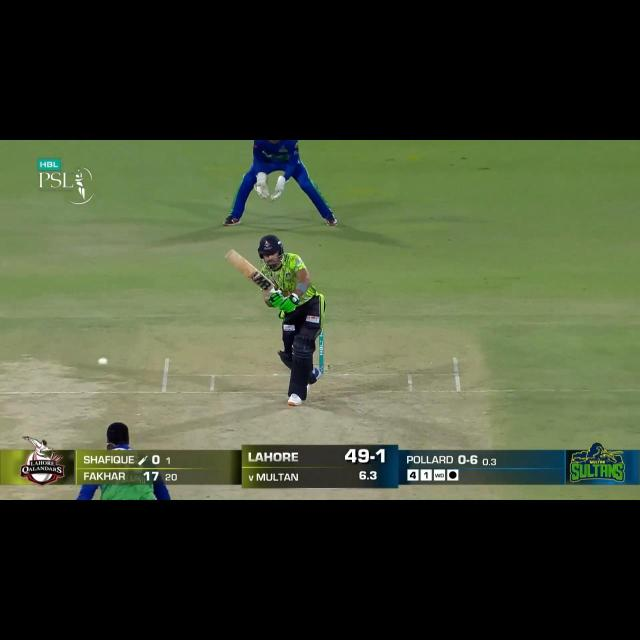bat: (228, 254, 271, 291)
toe: (224, 248, 239, 262)
